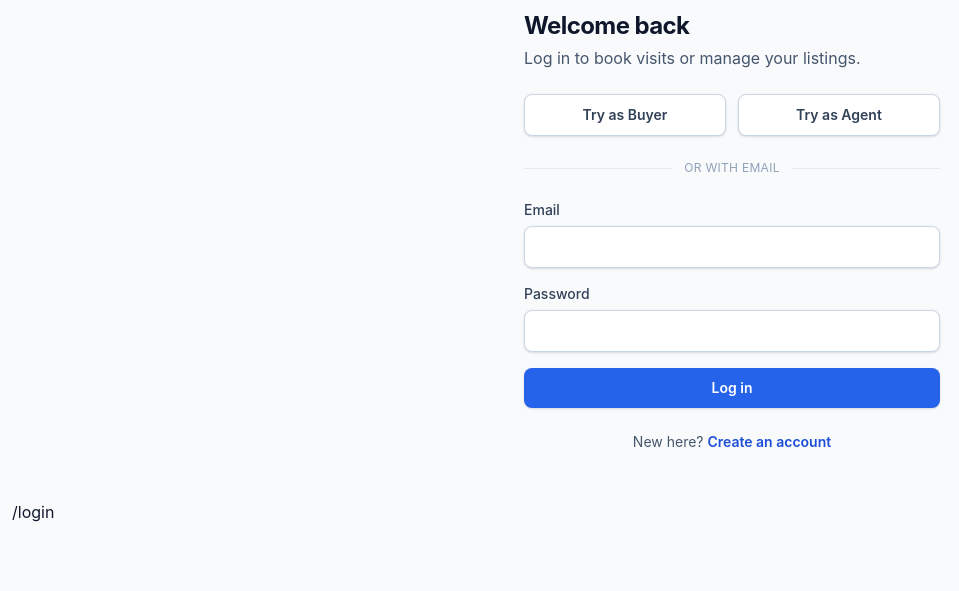
Test: <LoginPage> › shows the lockout in minutes when rate limited
This screenshot has width=959, height=591.
Type "riya@example.com" into the field labelled "Email" at (732, 247), box [524, 226, 940, 268]
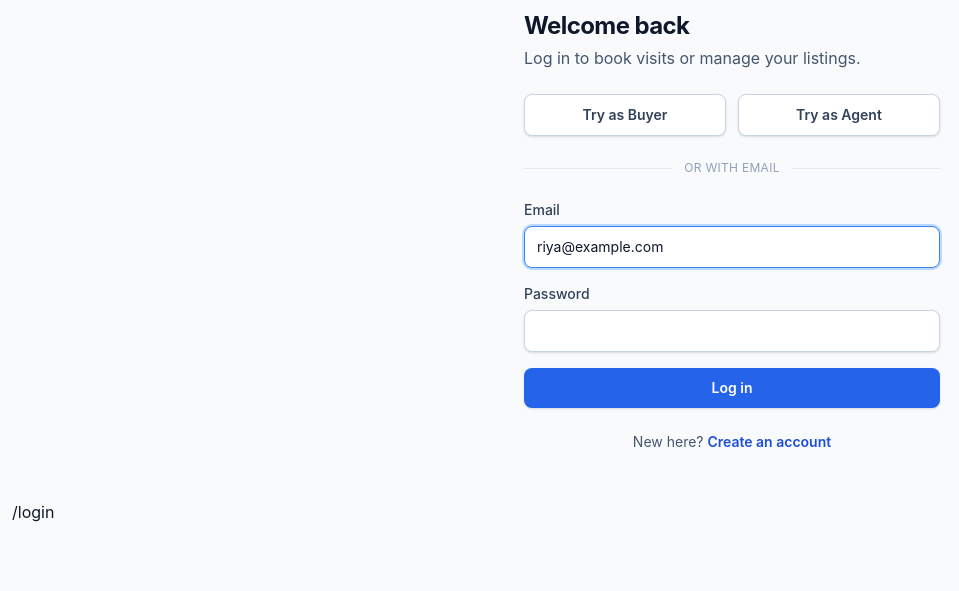
Type "Wrong1234" into the password field labelled "Password" at (732, 331), box [524, 310, 940, 352]
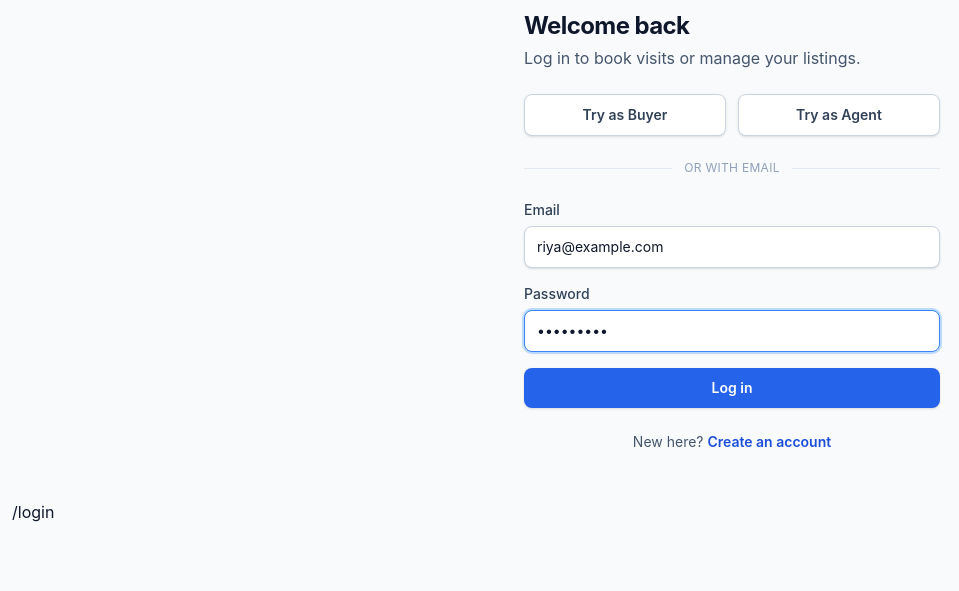
Click the button "Log in" at (732, 388), box [524, 368, 940, 408]
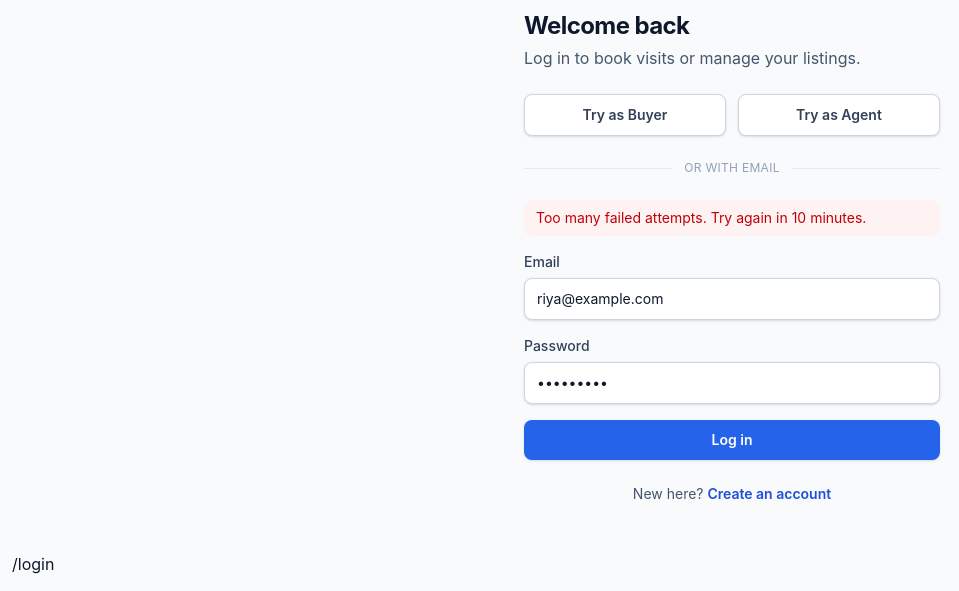
Now the message shows "Try again in 10 minutes.", box [536, 209, 866, 226]
